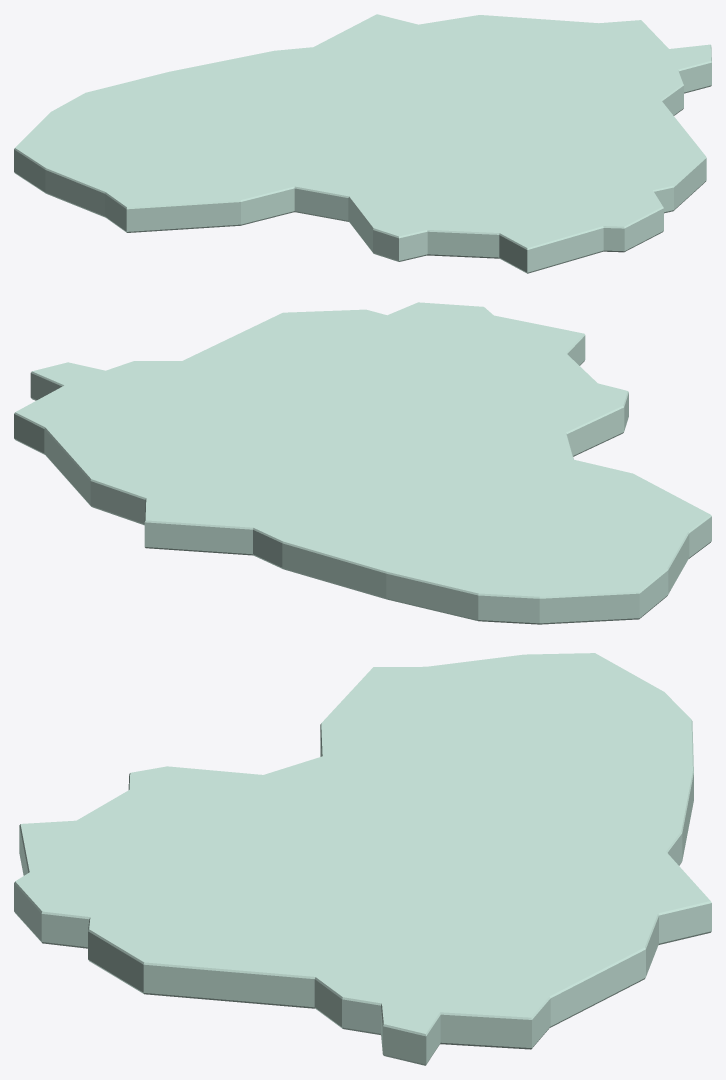
File: LTU.glb
3 renders of one model, top to bottom at view 1: azimuth 30°, elevation 25°; view 2: azimuth 150°, elevation 25°; view 3: azimuth 270°, elevation 25°, orthographic. The views are drawn at different scales.
Size of the model in its own units: 1.75 by 0.068 by 1.35.
